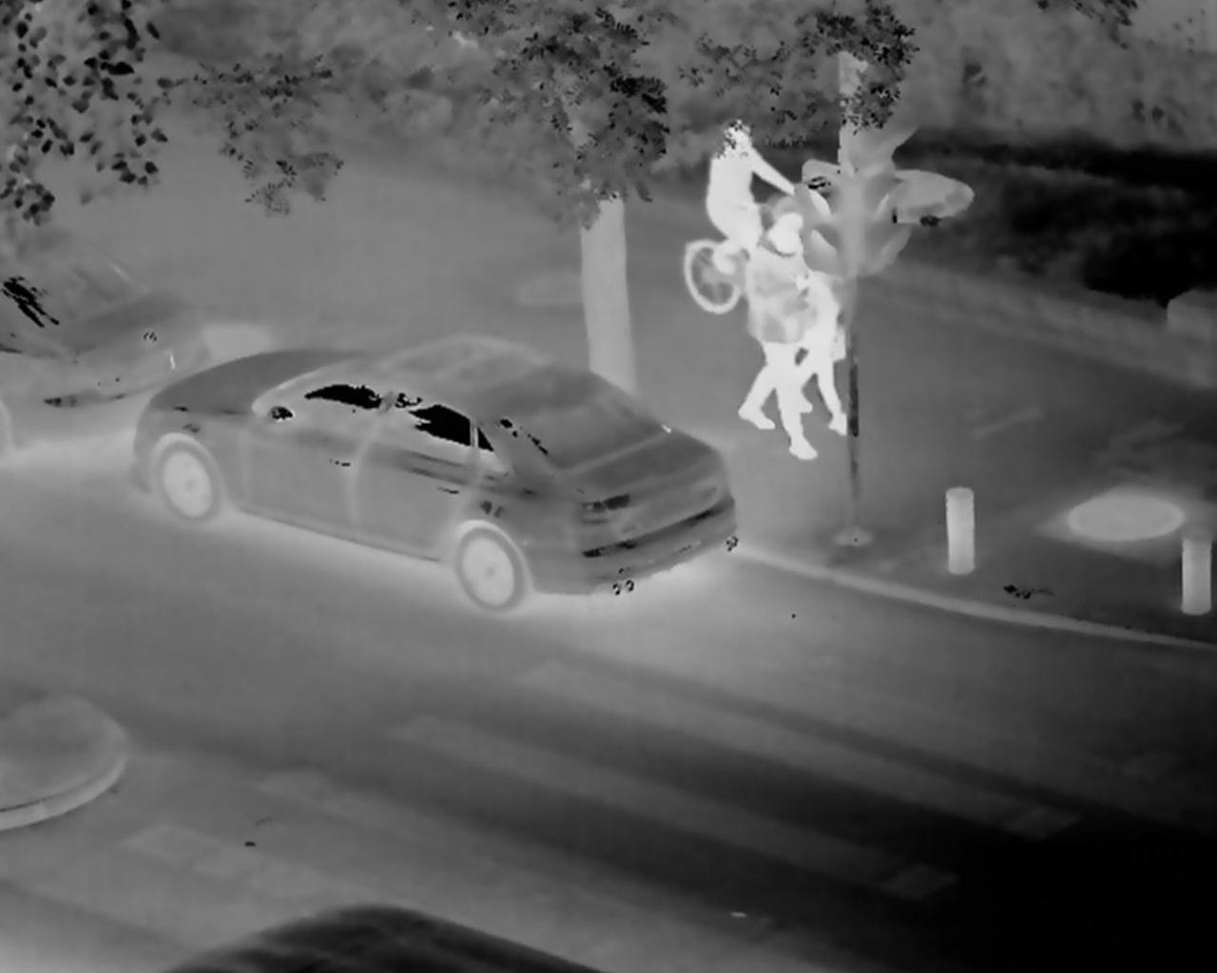person: (749, 216, 818, 456), (703, 112, 785, 281), (804, 262, 849, 434)
